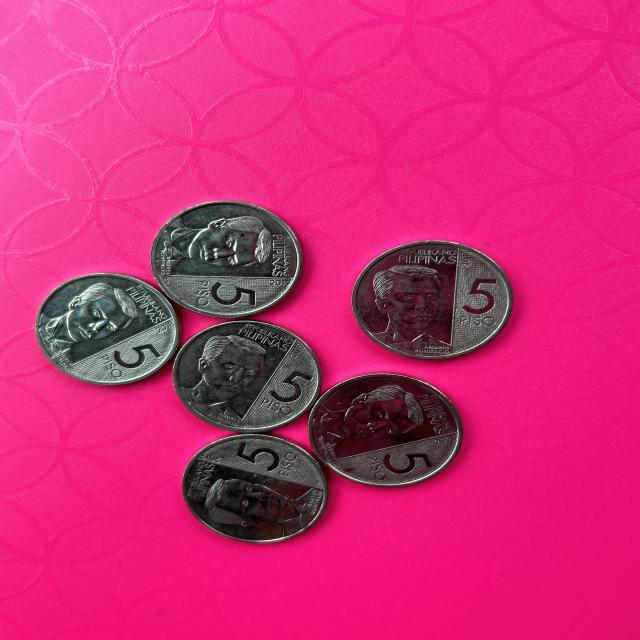5_New_Front: (360, 446, 444, 496), (259, 357, 312, 417), (448, 263, 503, 319), (195, 277, 262, 320), (228, 429, 284, 476), (95, 348, 159, 385)
